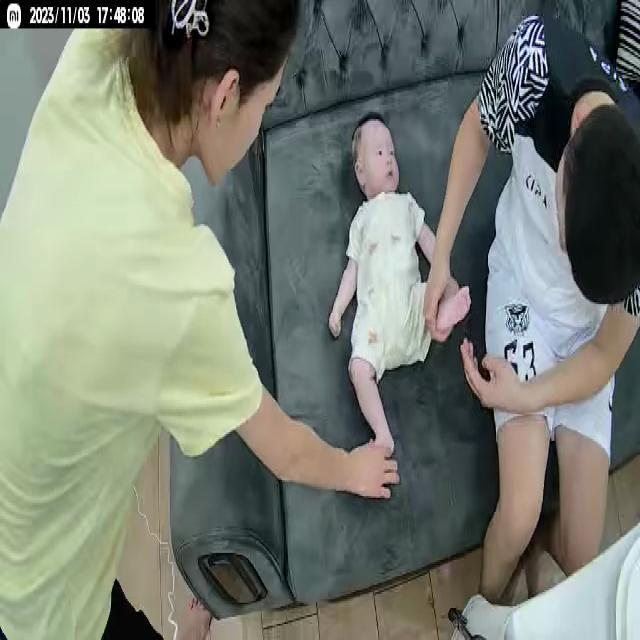baby: (326, 113, 472, 457)
